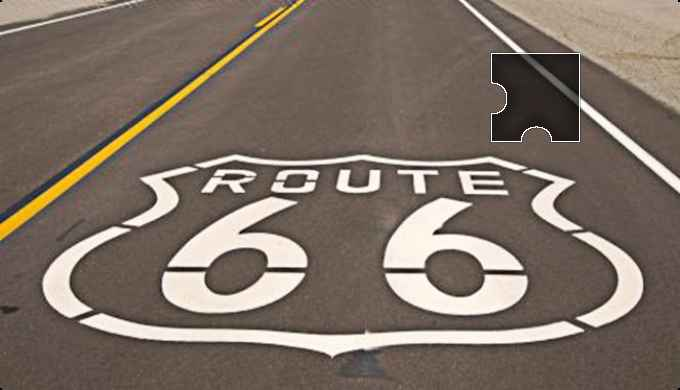gap: (491, 54, 578, 140)
